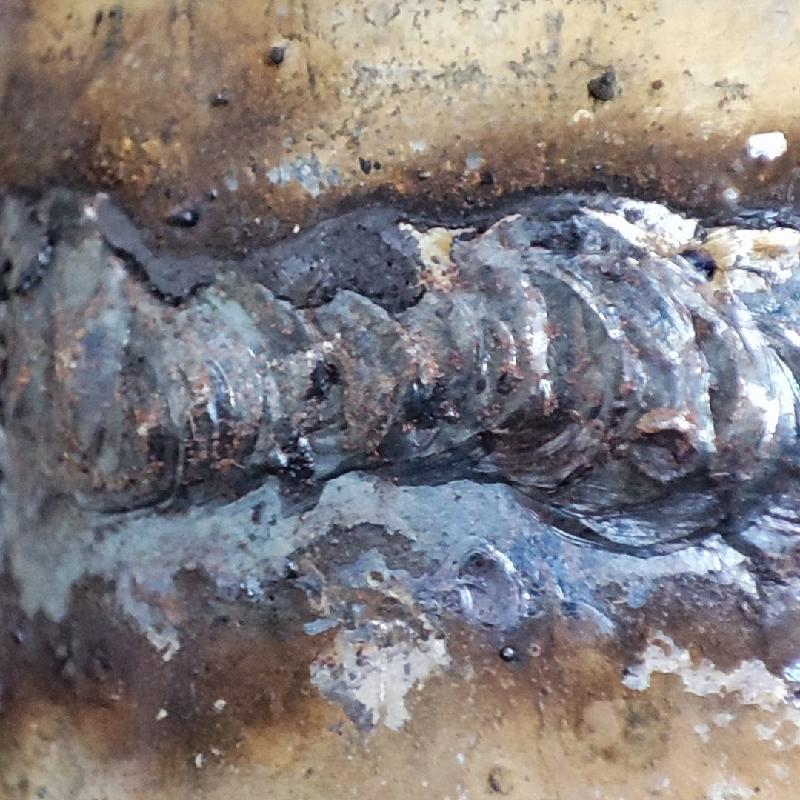good: (2, 180, 799, 552)
